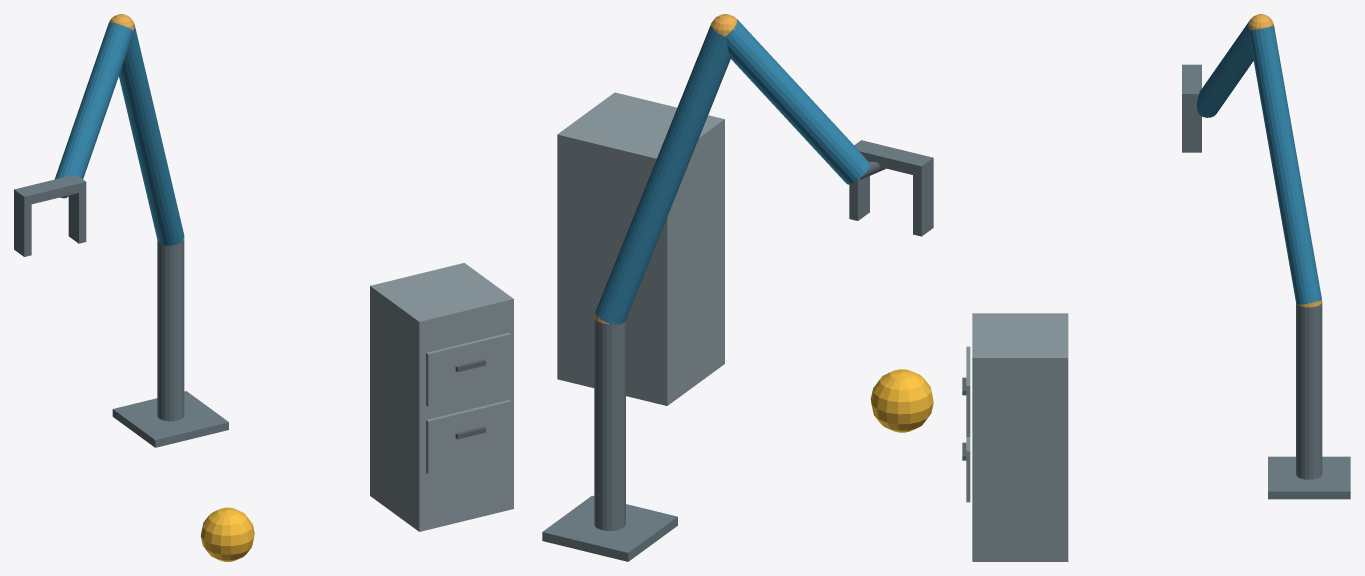
The picture shows the model from 3 angles, left to right: view 1: azimuth 30°, elevation 25°; view 2: azimuth 150°, elevation 25°; view 3: azimuth 270°, elevation 25°; orthographic projection. The views are drawn at different scales.
Parts seen in each view (by area): view 1: cabinet_1 body, moving link 1, fixed post, cabinet_1 drawer front.001, cabinet_1 drawer front, moving link 2, pedestal, ball ball_1, gripper bridge, gripper finger -1, gripper finger 1; view 2: cabinet_1 body, moving link 1, fixed post, moving link 2, pedestal, ball ball_1, gripper bridge, gripper finger -1, gripper finger 1; view 3: cabinet_1 body, moving link 1, fixed post, pedestal, moving link 2, gripper finger 1, gripper bridge.
Part boxes in pixels (<box>): cabinet_1 body: <box>370,263,513,531</box>; moving link 1: <box>119,24,184,245</box>; fixed post: <box>157,239,184,421</box>; cabinet_1 drawer front.001: <box>426,332,511,406</box>; cabinet_1 drawer front: <box>426,400,511,473</box>; moving link 2: <box>54,22,132,179</box>; pedestal: <box>112,391,228,447</box>; ball ball_1: <box>200,507,254,561</box>; gripper bridge: <box>14,175,86,205</box>; gripper finger -1: <box>14,199,31,256</box>; gripper finger 1: <box>68,191,86,243</box>; cabinet_1 body: <box>557,92,724,405</box>; moving link 1: <box>595,24,730,325</box>; fixed post: <box>594,317,625,530</box>; moving link 2: <box>725,19,869,184</box>; pedestal: <box>542,495,677,561</box>; ball ball_1: <box>870,369,933,432</box>; gripper bridge: <box>854,140,933,176</box>; gripper finger -1: <box>913,169,933,236</box>; gripper finger 1: <box>849,176,869,220</box>; cabinet_1 body: <box>972,313,1068,561</box>; moving link 1: <box>1249,25,1321,304</box>; fixed post: <box>1296,302,1322,479</box>; pedestal: <box>1268,456,1350,499</box>; moving link 2: <box>1196,19,1253,117</box>; gripper finger 1: <box>1182,103,1201,152</box>; gripper bridge: <box>1182,64,1201,102</box>.
Bounding box in the file's own units: 1.29 × 1.44 × 1.17.
